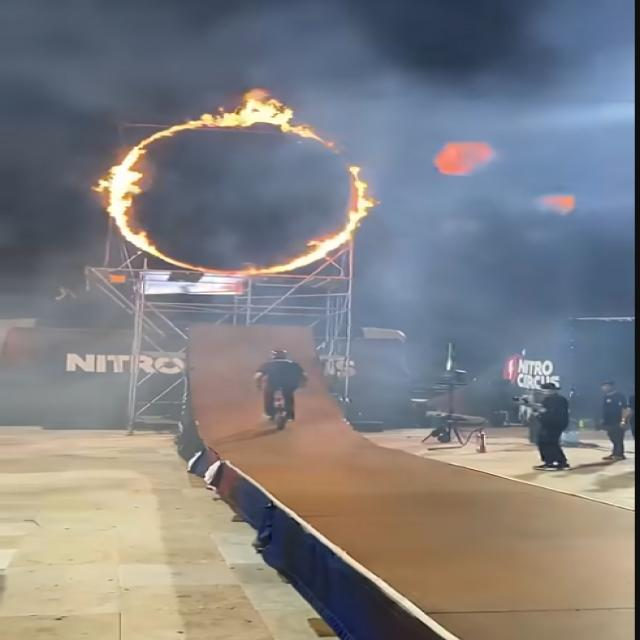fire: (94, 148, 154, 251), (135, 114, 225, 147), (226, 86, 296, 127), (345, 167, 374, 228), (301, 229, 351, 264)
